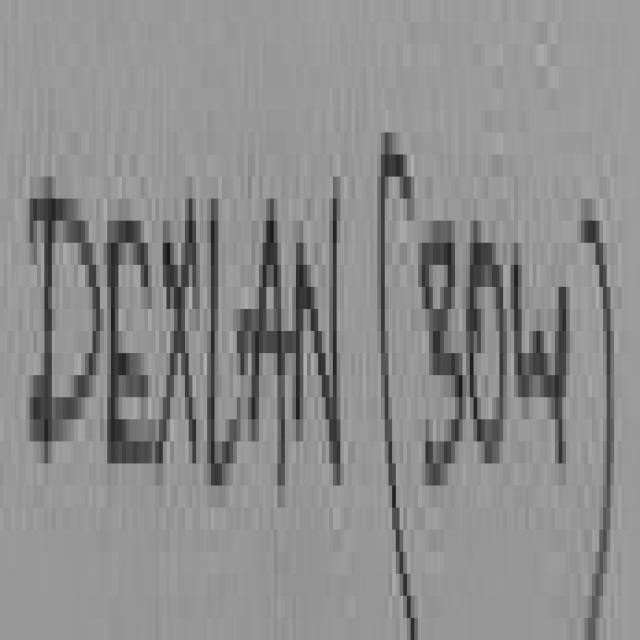0: (470, 221, 507, 463)
3: (422, 216, 466, 474)
A: (252, 199, 285, 474)
D: (30, 199, 100, 463)
E: (107, 221, 152, 471)
L: (211, 199, 240, 474)
N: (296, 199, 340, 486)
X: (159, 199, 200, 463)
g: (559, 287, 570, 463)
m: (509, 240, 558, 425)
